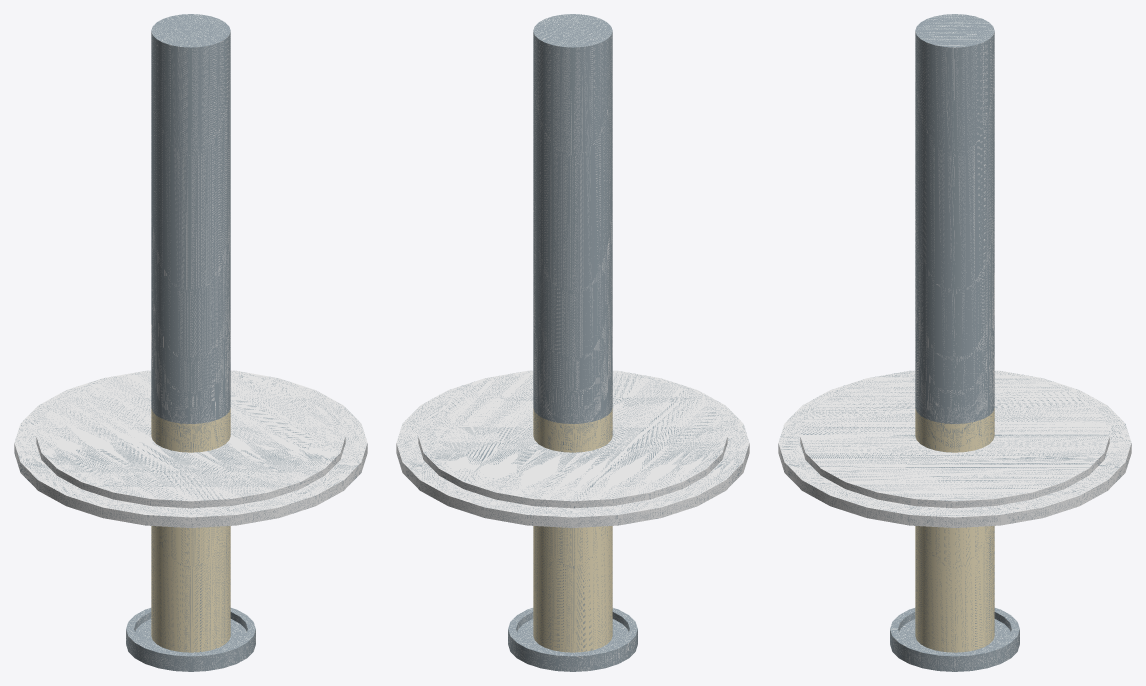
File: build05.fbx
3 views of the same model, side by side, from view 1: azimuth 30°, elevation 25°; view 2: azimuth 150°, elevation 25°; view 3: azimuth 270°, elevation 25° (orthographic).
Visible parts, largest first — view 1: Group1, Group2; view 2: Group1, Group2; view 3: Group1, Group2.
Boxes of the visible parts, x1=… form: Group1: x1=126, y1=14, x2=255, y2=671; Group2: x1=14, y1=370, x2=367, y2=527; Group1: x1=508, y1=14, x2=637, y2=671; Group2: x1=396, y1=370, x2=749, y2=527; Group1: x1=890, y1=14, x2=1019, y2=671; Group2: x1=778, y1=370, x2=1131, y2=527.
Size of the model in its own units: 7177 by 13763 by 7177.
